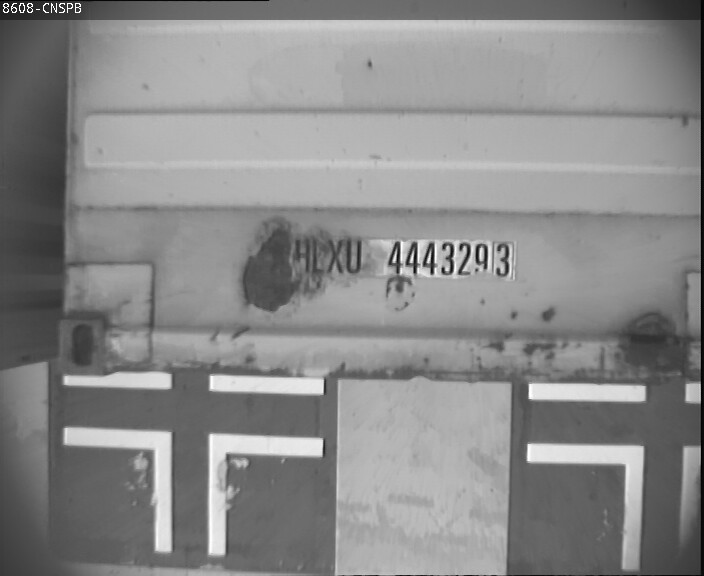groundmarker_1: (64, 427, 322, 554)
